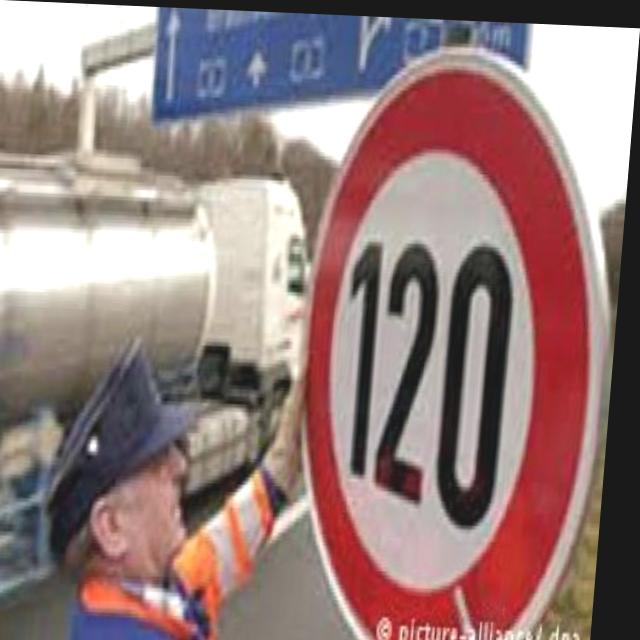limit120: (283, 31, 638, 640)
